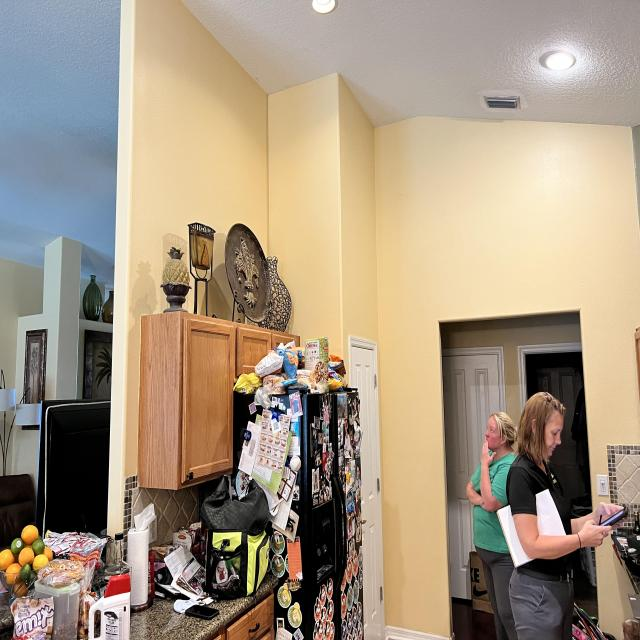Appliance_Fridge: (232, 387, 364, 640)
Cabinet_Flat: (212, 597, 277, 640)
Cabinet_Shaker: (138, 312, 301, 492)
Countertop_Granite: (130, 566, 278, 640)
